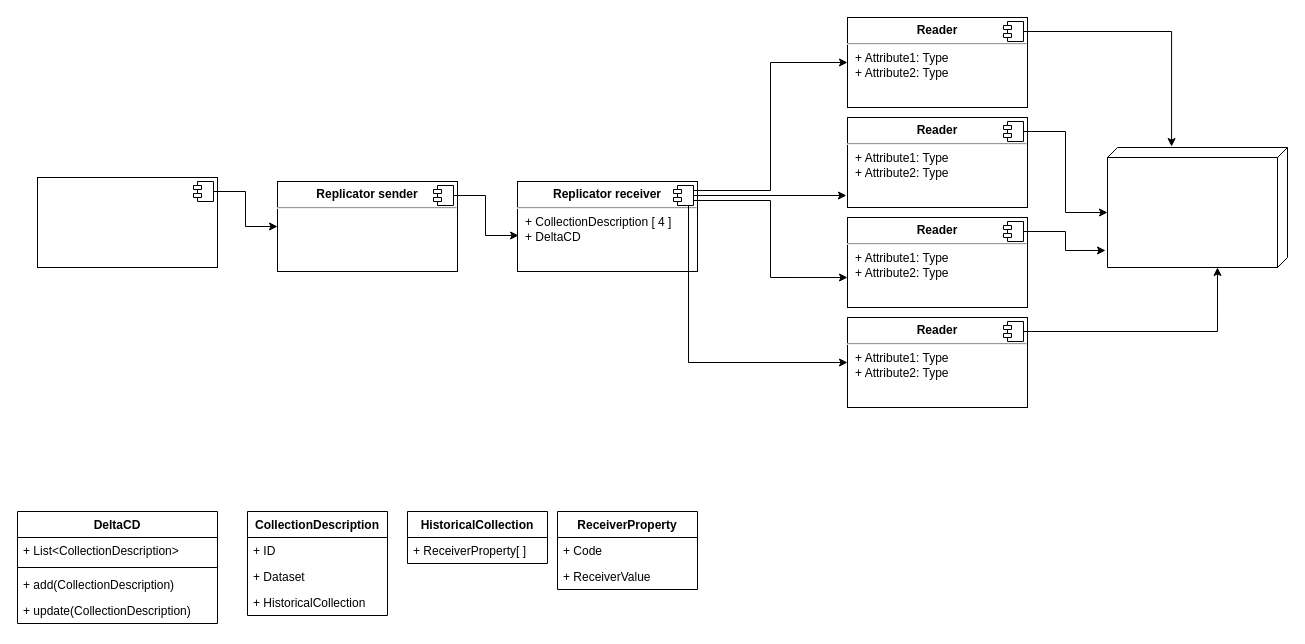
The diagram is 1305 pixels wide and 644 high, and some of its shapes have lost their labels. The shapes that lost their labels are listed below. From the top down, each one's centre as x and y in pixels, then its label:
the point at 127,222: Writer + Code + Value
the point at 1197,207: Baza
